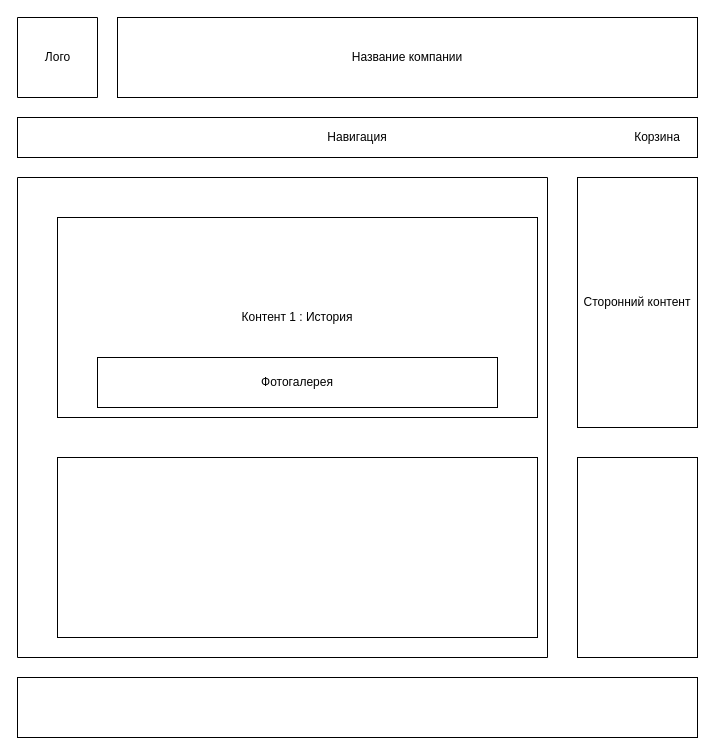
Image size: 715x755. Some labels were removed from this diagram. Here are the shapes that lost their labels. From the top down, the box of each, then its label:
(56, 456, 538, 638): Контент 2: Фирменные магазины
(576, 456, 698, 658): Сторонний контент 2 (цитата)
(16, 676, 698, 738): Соцсети, лицензия
